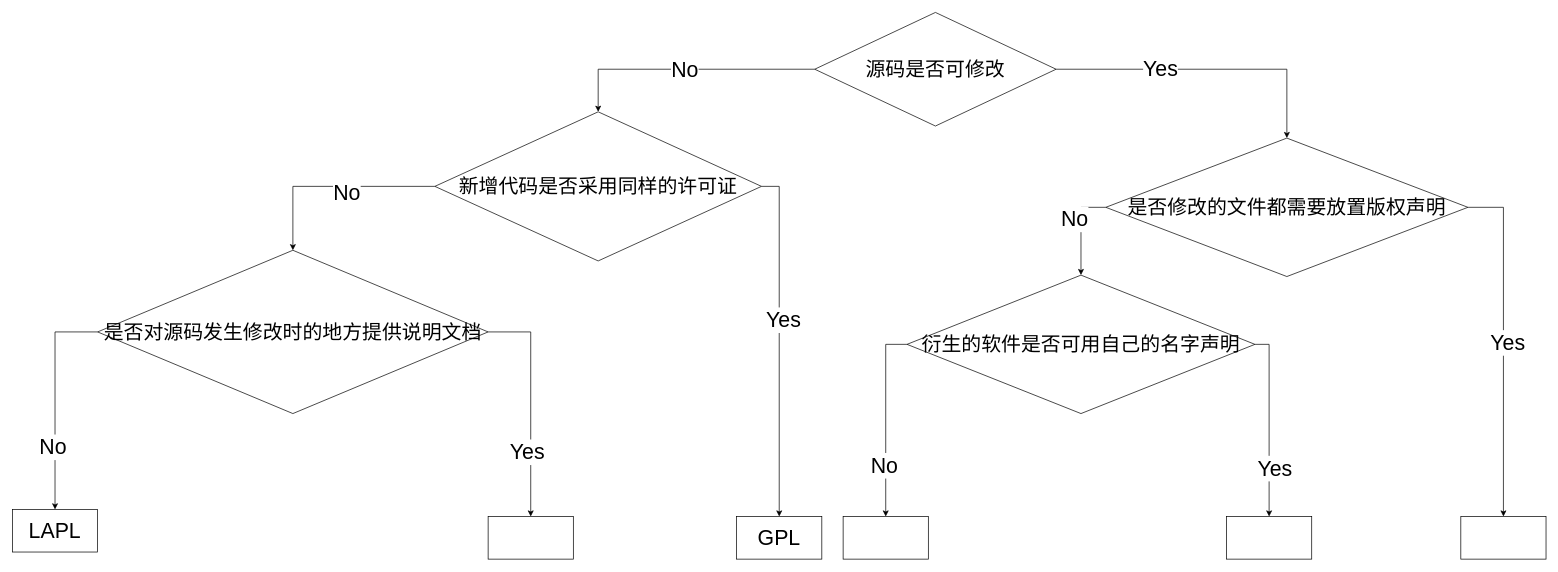
This 1558x572 diagram has some shape labels left out. Here are the shapes that lost their labels. From the top down, the box of each, then its label:
(487, 516, 573, 559): MPL
(842, 516, 928, 559): BSD
(1226, 516, 1312, 559): MIT
(1460, 516, 1546, 559): Apache
